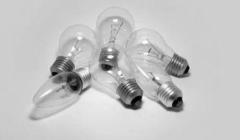lightbulb: (29, 6, 190, 120), (30, 24, 98, 120), (124, 27, 190, 108), (90, 5, 142, 107), (28, 68, 92, 120), (50, 25, 98, 76)
